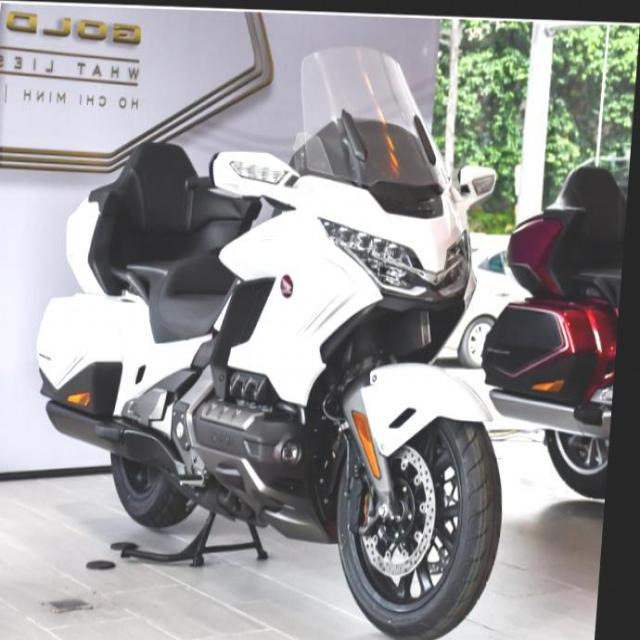Gold Wing: (22, 35, 537, 639), (480, 154, 631, 500)
